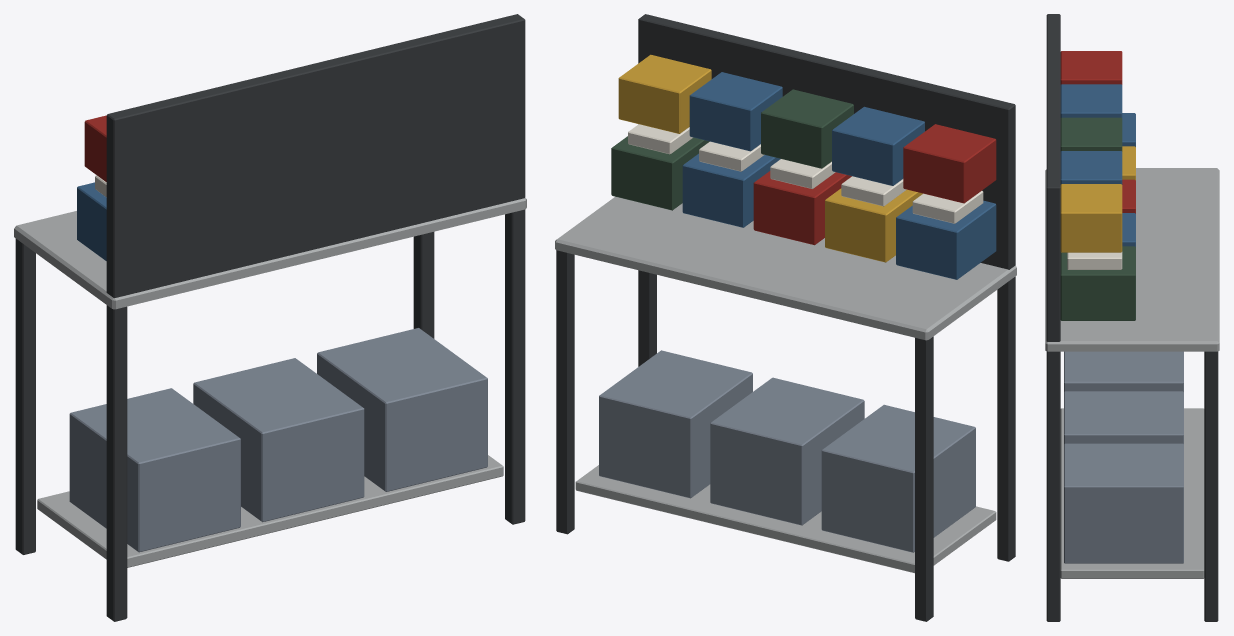
Rendered from prop_of_strap_bins.glb.
3 views of the same model, side by side, from view 1: azimuth 30°, elevation 25°; view 2: azimuth 150°, elevation 25°; view 3: azimuth 270°, elevation 25° (orthographic). The views are drawn at different scales.
Parts seen in each view (by area): view 1: Bins; view 2: Bins; view 3: Bins.
Part boxes in pixels (x1,y1,x2,y2): Bins: (14,14,526,621); Bins: (555,14,1016,621); Bins: (1045,14,1219,621).
Size of what is drawn, in the model's own units: 1.21 by 1.4 by 0.508.
